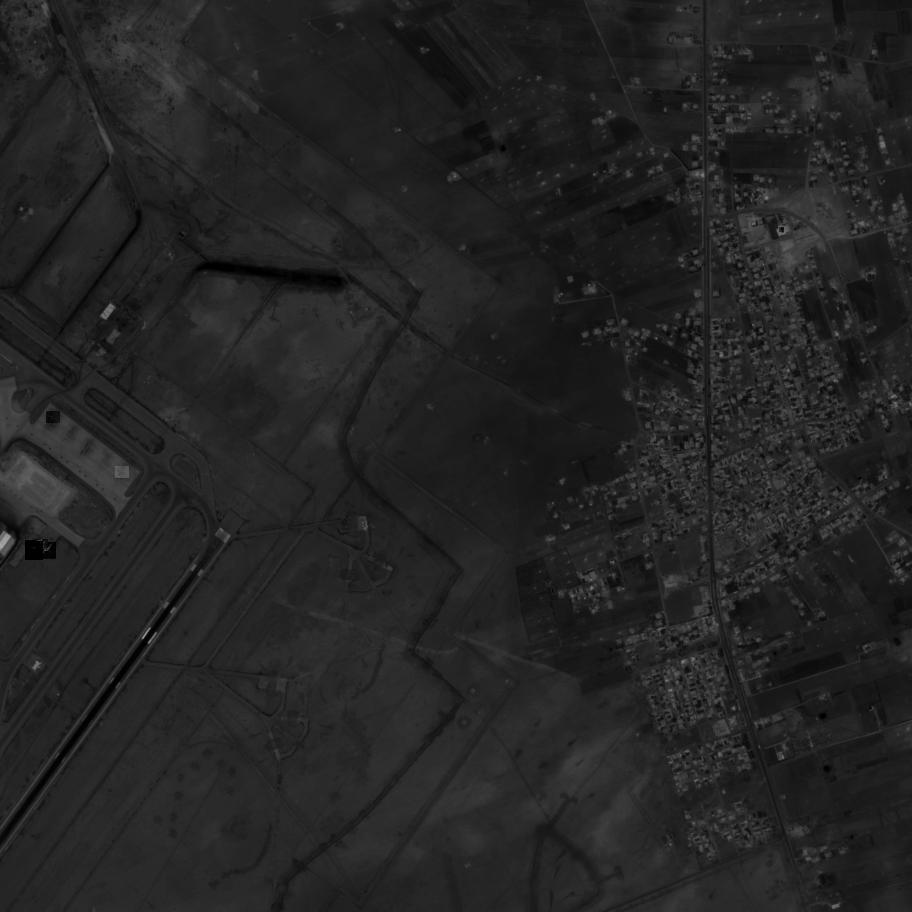plane: (25, 542, 44, 561), (39, 542, 57, 560), (115, 466, 130, 480), (47, 411, 61, 424), (36, 539, 49, 552)
storage-tank: (779, 228, 784, 231)
